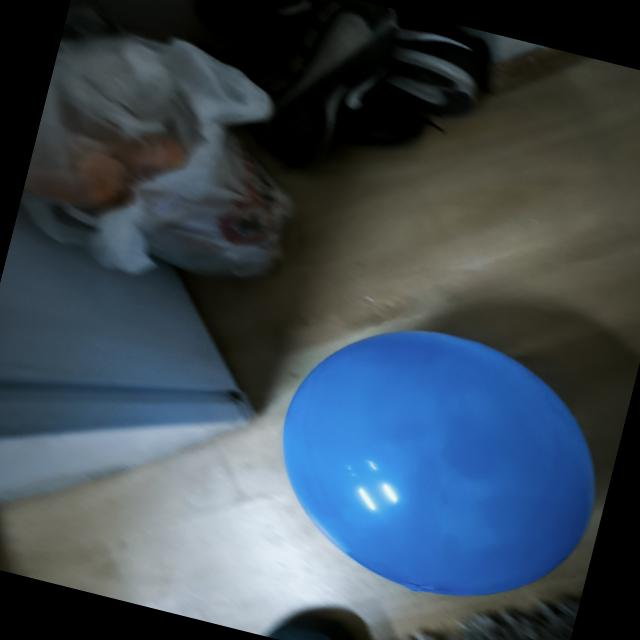balloon: (282, 331, 594, 596)
